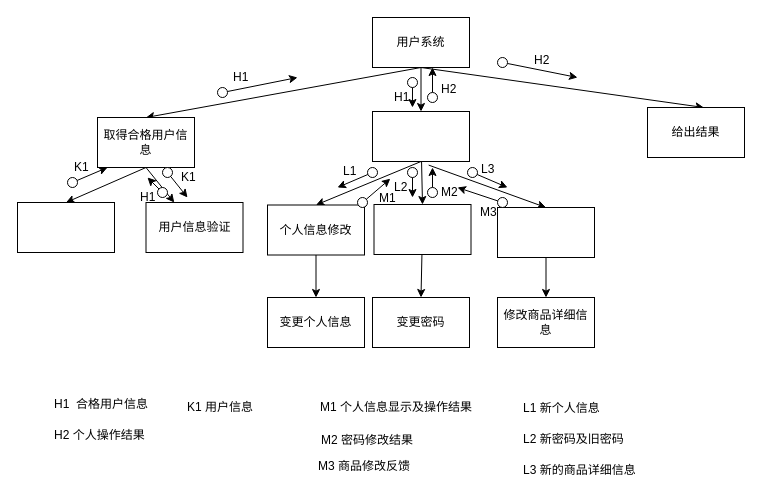
This 762x498 diagram has some shape labels left out. Each missing label, with the centre of its shape:
"商品库存维护" goes at point (545, 232).
"密码修改" goes at point (422, 229).
"读入数据" goes at point (65, 227).
"调度" goes at point (421, 136).
